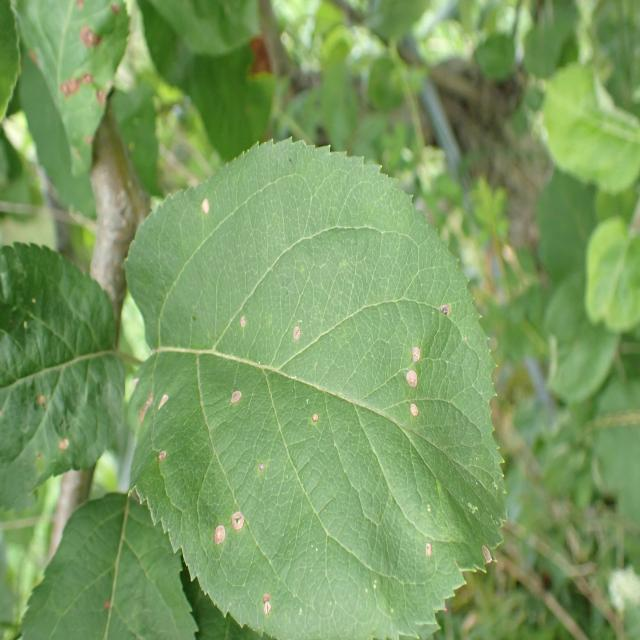Black Rot: (41, 0, 122, 153), (210, 505, 231, 572), (254, 566, 275, 630), (428, 287, 460, 327), (225, 305, 253, 343), (306, 391, 321, 454), (416, 537, 440, 576), (192, 193, 220, 226), (477, 540, 498, 577), (151, 382, 174, 414), (231, 504, 247, 549), (33, 385, 54, 418), (92, 593, 117, 620), (222, 384, 250, 408), (248, 452, 268, 485), (54, 433, 77, 461), (404, 397, 424, 429), (152, 443, 171, 476), (402, 343, 423, 370), (286, 318, 302, 350), (398, 366, 418, 389)
